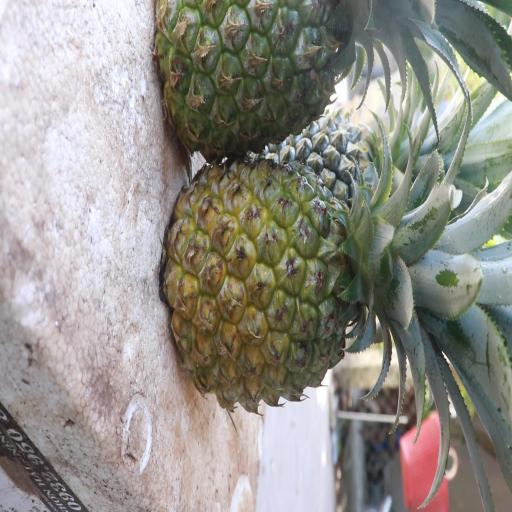------------------------------: (156, 0, 393, 153)
Pineapple - v8 v1: (170, 166, 398, 395)
